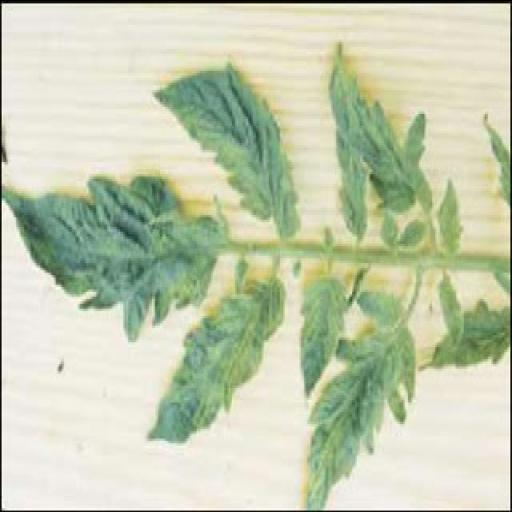Mosaic Virus: (0, 166, 229, 343), (150, 260, 286, 446), (156, 64, 298, 240), (301, 286, 416, 498), (333, 36, 437, 228), (298, 264, 346, 394)
